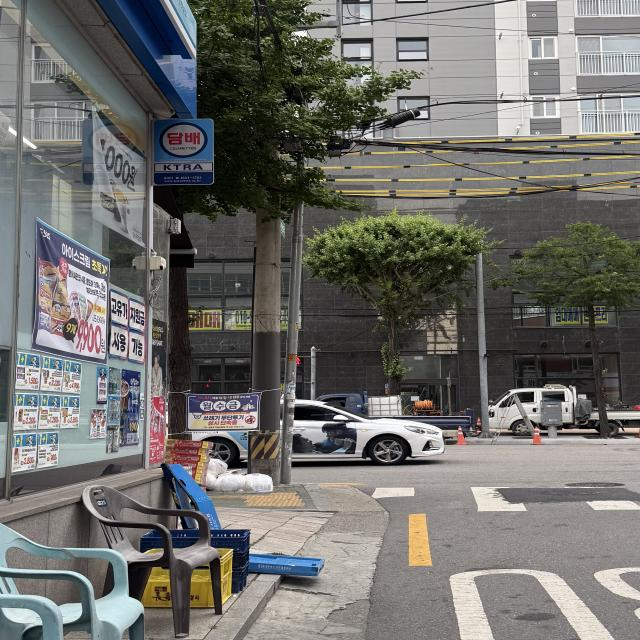car: (185, 386, 464, 480), (478, 379, 640, 442)
